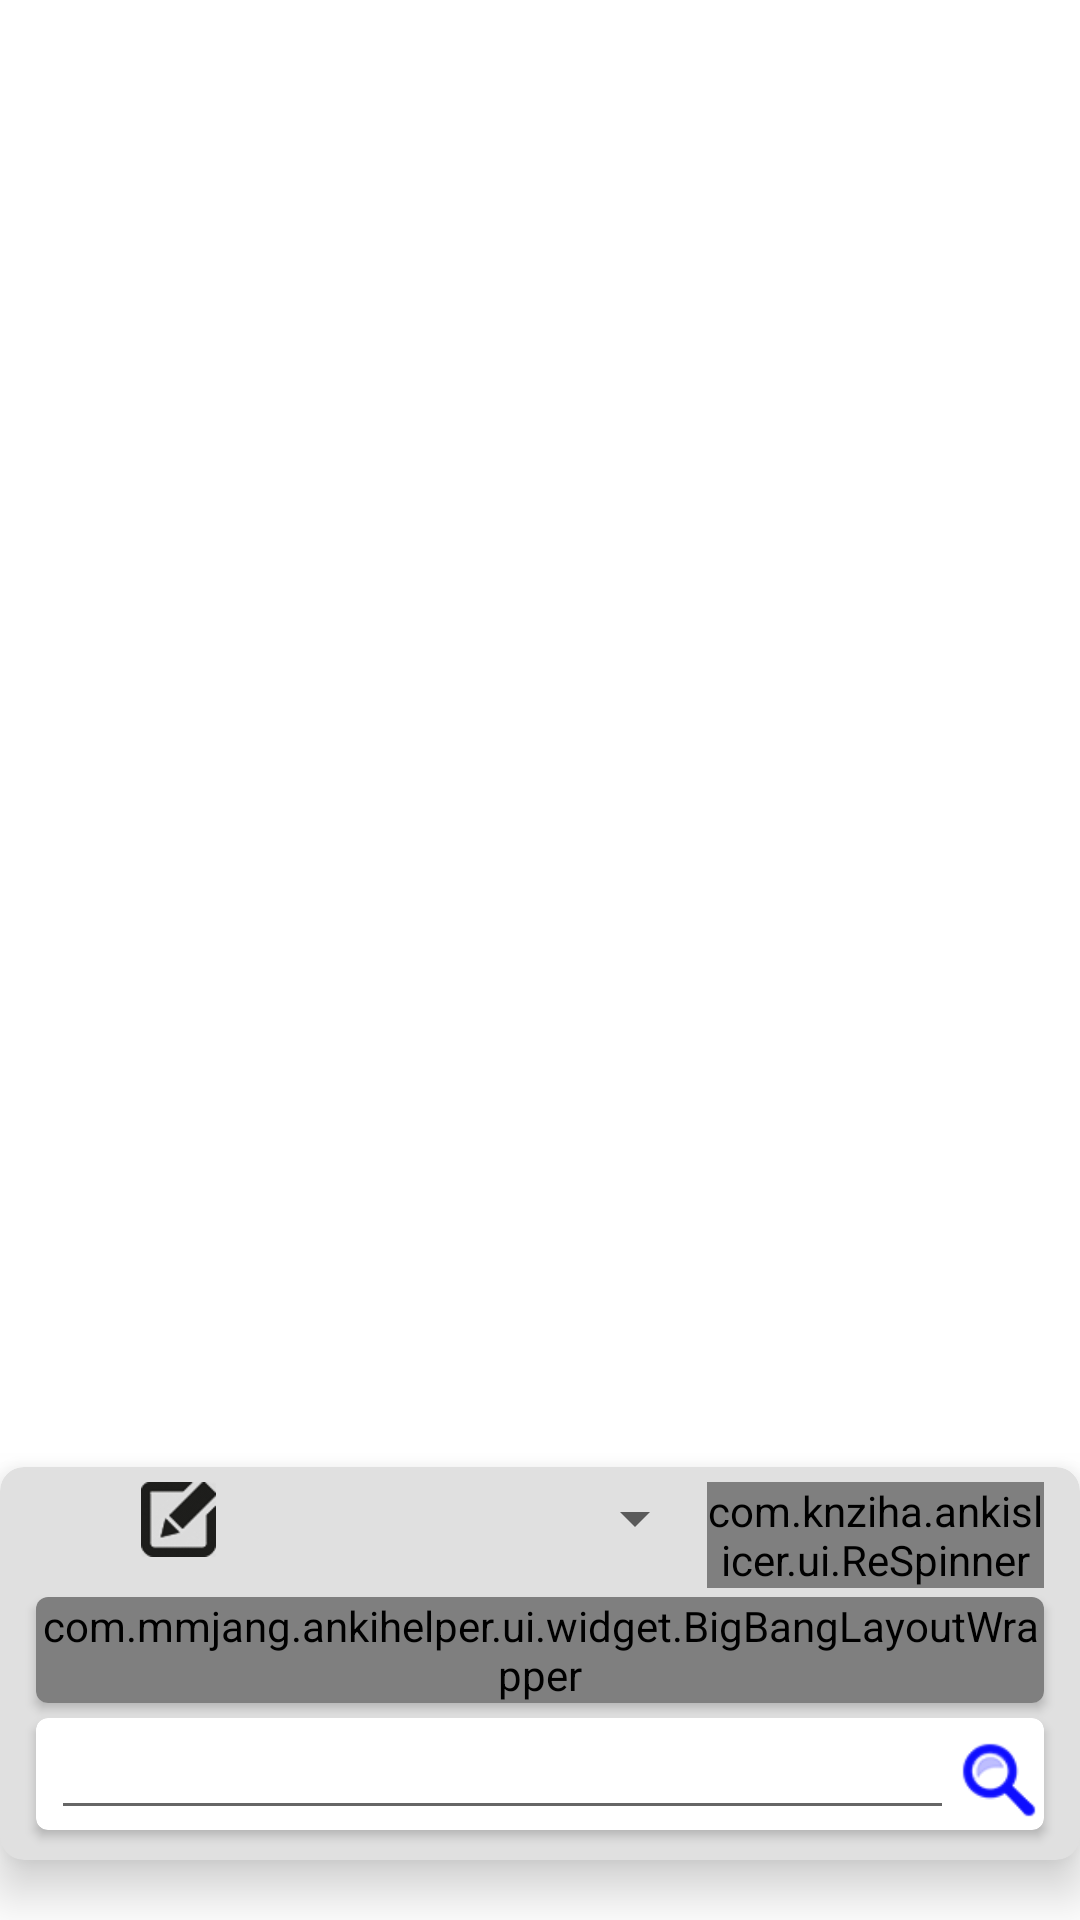

Named icons in this screenshot (1080px×1920px) and their centers, point (x, y):
note: point (178, 1519)
search: point (999, 1780)
